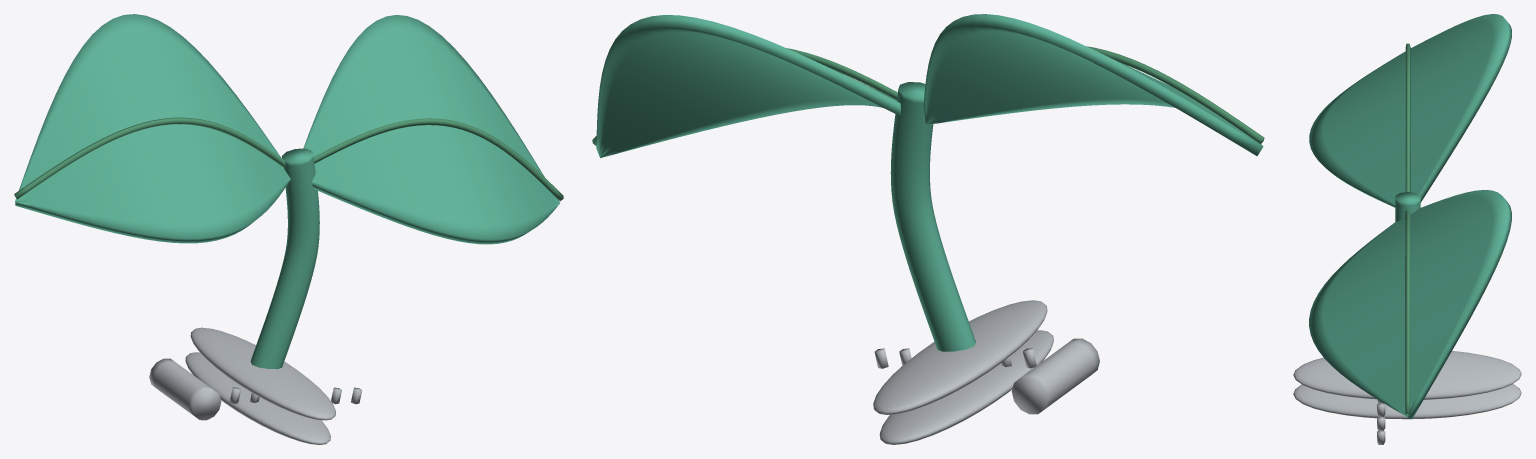
The model's file is Masculine-buzz-pashmina250-sprout.glb.
3 renders of one model, left to right at view 1: azimuth 30°, elevation 25°; view 2: azimuth 150°, elevation 25°; view 3: azimuth 270°, elevation 25°, orthographic. The views are drawn at different scales.
Parts seen in each view (by area): view 1: 226 extra / Accessory / mint226, 226 extra / Sprout / clip silver235, 226 extra / Sprout / leaf vein235; view 2: 226 extra / Accessory / mint226, 226 extra / Sprout / clip silver235, 226 extra / Sprout / leaf vein235; view 3: 226 extra / Accessory / mint226, 226 extra / Sprout / clip silver235, 226 extra / Sprout / leaf vein235.
Boxes of the visible parts, box(x1,y1,x2,y2) form: 226 extra / Accessory / mint226: box(15, 14, 559, 369); 226 extra / Sprout / clip silver235: box(149, 327, 362, 444); 226 extra / Sprout / leaf vein235: box(14, 117, 563, 201); 226 extra / Accessory / mint226: box(596, 14, 1263, 351); 226 extra / Sprout / clip silver235: box(873, 300, 1099, 444); 226 extra / Sprout / leaf vein235: box(592, 46, 1264, 145); 226 extra / Accessory / mint226: box(1309, 14, 1511, 418); 226 extra / Sprout / clip silver235: box(1293, 351, 1521, 444); 226 extra / Sprout / leaf vein235: box(1405, 43, 1410, 414).
Size of the model in its own units: 0.2644 by 0.174 by 0.104.
